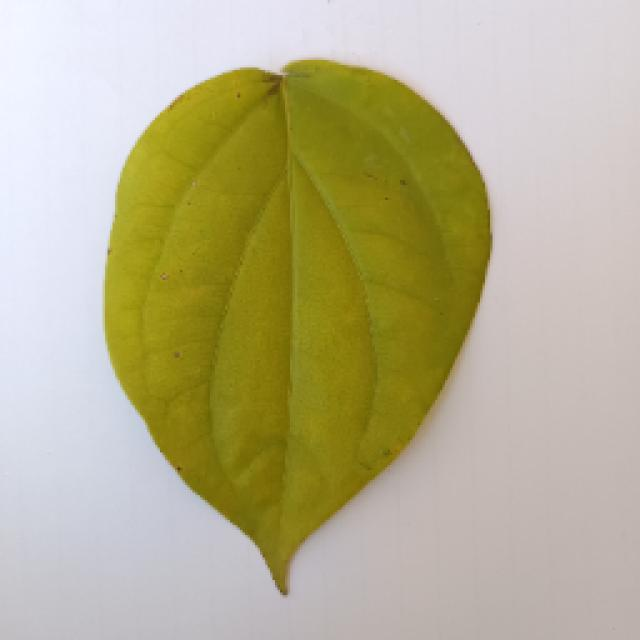slow-decline: (80, 65, 510, 597)
